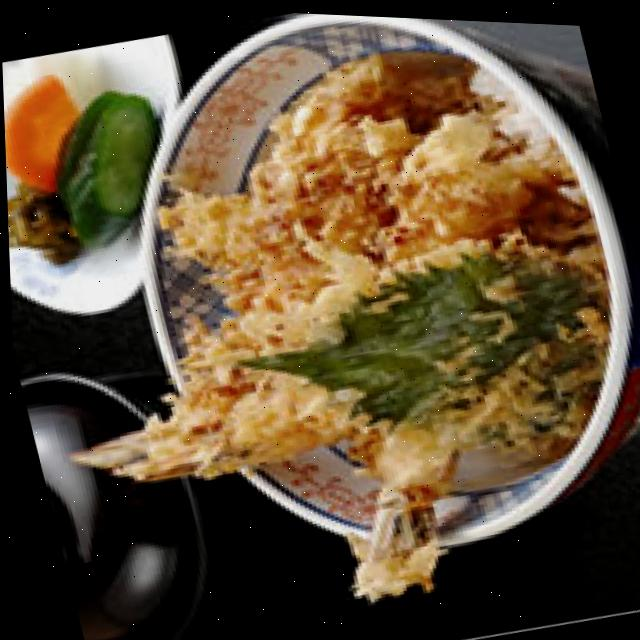熟制海鲜: (53, 2, 640, 619)
